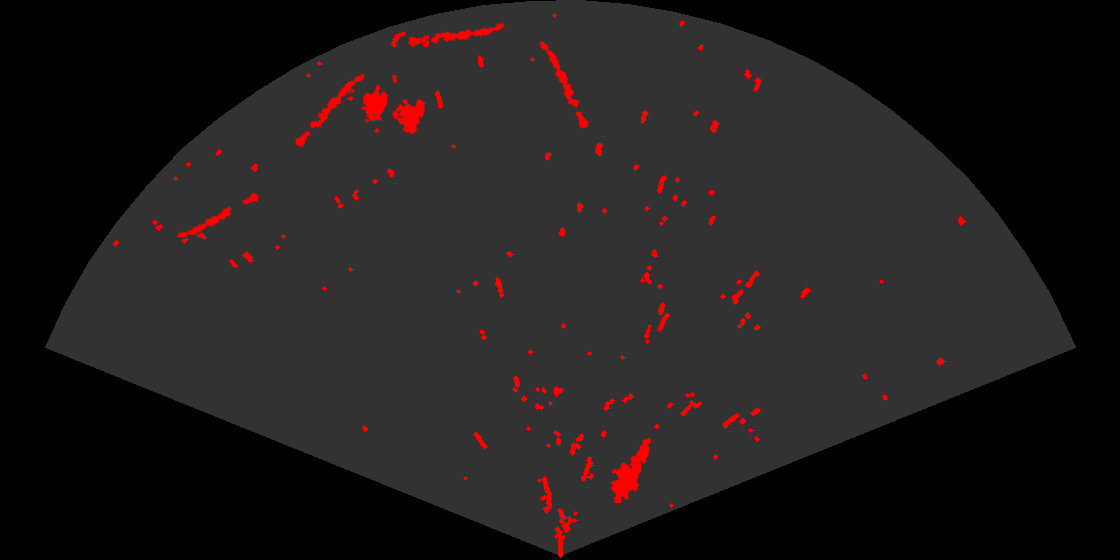cage: (347, 75, 427, 136)
chain: (294, 73, 366, 149), (538, 39, 590, 130), (175, 191, 260, 239), (406, 22, 506, 49)
frogman: (609, 436, 653, 503)
